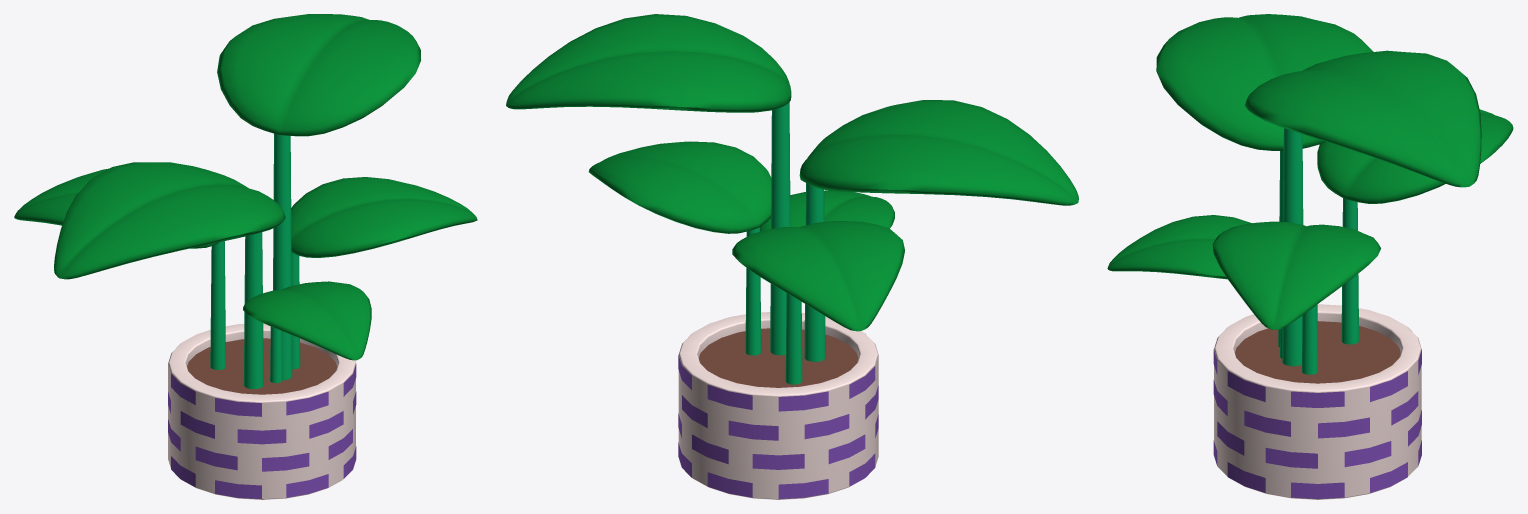
The model's file is City_16_Plant_5.glb.
3 views of the same model, side by side, from view 1: azimuth 30°, elevation 25°; view 2: azimuth 150°, elevation 25°; view 3: azimuth 270°, elevation 25° (orthographic). The views are drawn at different scales.
Visible parts, largest first — view 1: City_16_Plant_5; view 2: City_16_Plant_5; view 3: City_16_Plant_5.
Part boxes in pixels (<box>): City_16_Plant_5: <box>14,14,477,499</box>; City_16_Plant_5: <box>506,14,1078,499</box>; City_16_Plant_5: <box>1107,14,1513,499</box>.
Size of the model in its own units: 1.91 by 1.6 by 1.39.
Materials: 1 (1 with a texture image).
